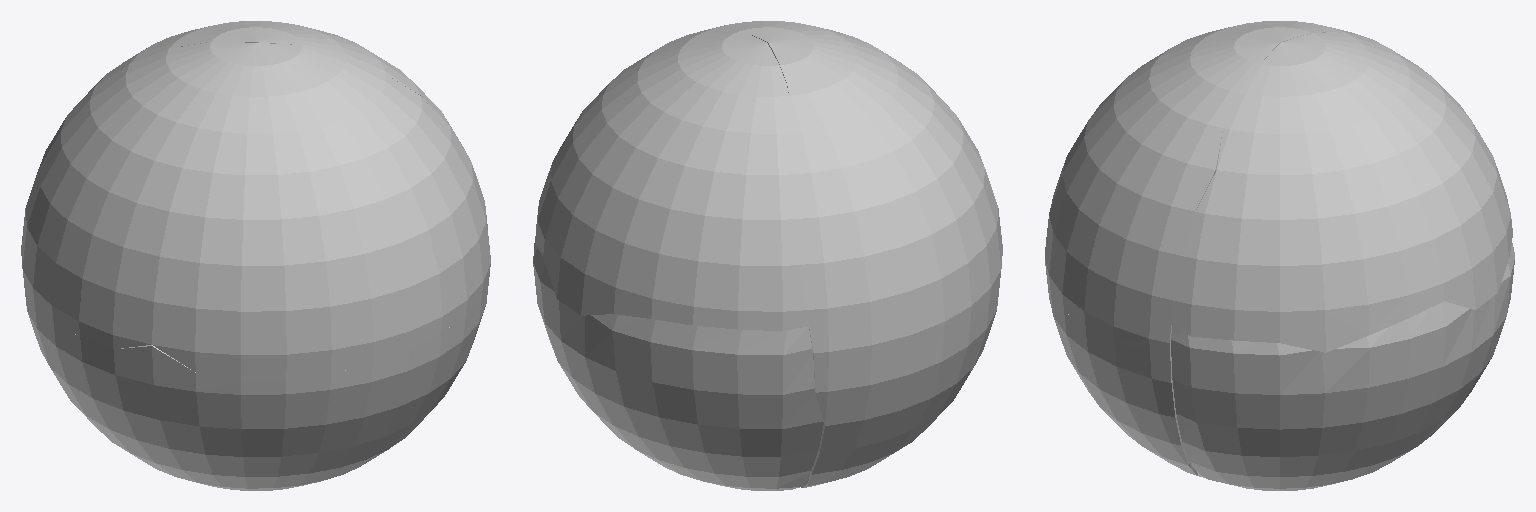
File: broken_ball.obj
The picture shows the model from 3 angles: view 1: azimuth 30°, elevation 25°; view 2: azimuth 150°, elevation 25°; view 3: azimuth 270°, elevation 25°; orthographic projection.
Parts seen in each view (by area): view 1: piece3_Sphere.004, piece4_Sphere.005, piece2_Sphere.006; view 2: piece2_Sphere.006, piece3_Sphere.004, piece_1_Sphere.003, piece4_Sphere.005; view 3: piece2_Sphere.006, piece_1_Sphere.003, piece3_Sphere.004, piece4_Sphere.005.
Boxes of the visible parts, x1=… form: piece3_Sphere.004: x1=21, y1=42, x2=490, y2=381; piece4_Sphere.005: x1=25, y1=276, x2=489, y2=490; piece2_Sphere.006: x1=88, y1=21, x2=487, y2=226; piece2_Sphere.006: x1=535, y1=27, x2=808, y2=330; piece3_Sphere.004: x1=700, y1=21, x2=1002, y2=368; piece_1_Sphere.003: x1=533, y1=243, x2=823, y2=490; piece4_Sphere.005: x1=801, y1=285, x2=999, y2=487; piece2_Sphere.006: x1=1171, y1=32, x2=1512, y2=352; piece_1_Sphere.003: x1=1171, y1=243, x2=1514, y2=490; piece3_Sphere.004: x1=1045, y1=21, x2=1376, y2=357; piece4_Sphere.005: x1=1047, y1=280, x2=1229, y2=484.
Bounding box in the file's own units: 0.52 × 0.52 × 0.52.